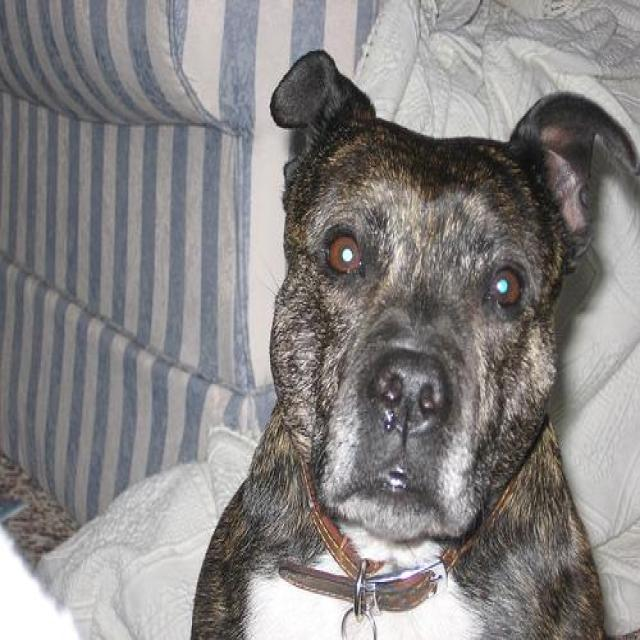staffordshire_bullterrier: (192, 44, 635, 638)
